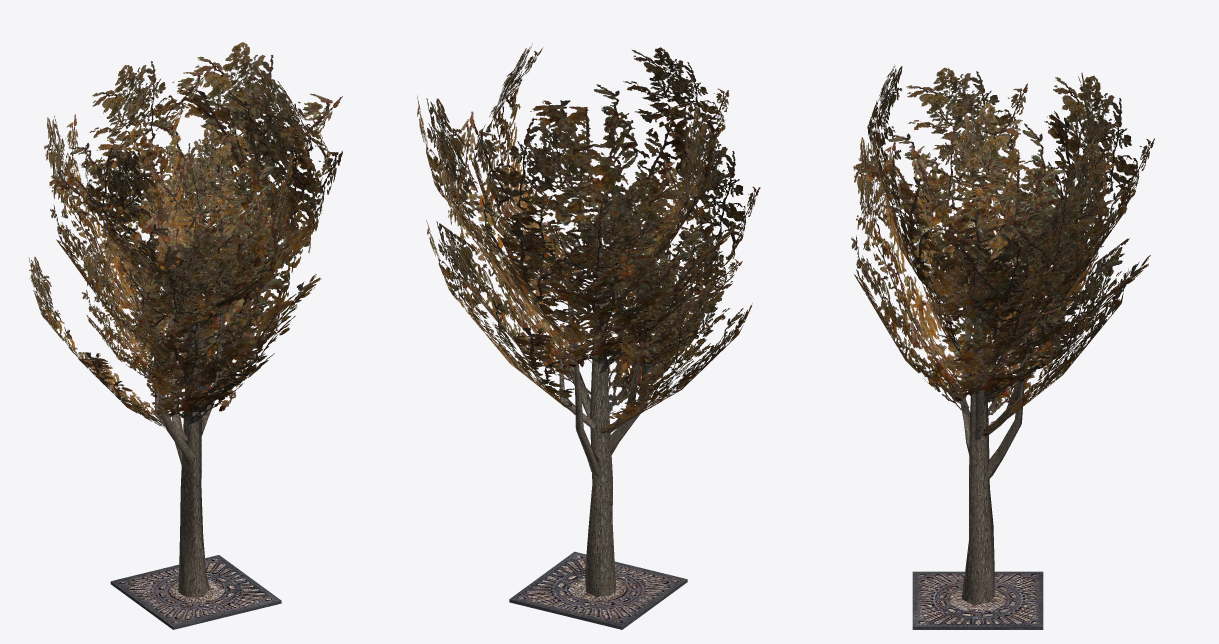
The model's file is tree_decid_med_base_leaf.fbx.
The picture shows the model from 3 angles, left to right: view 1: azimuth 30°, elevation 25°; view 2: azimuth 150°, elevation 25°; view 3: azimuth 270°, elevation 25°; orthographic projection. The views are drawn at different scales.
Visible parts, largest first — view 1: mesh_0, mesh_2, mesh_1; view 2: mesh_0, mesh_1, mesh_2; view 3: mesh_0, mesh_1, mesh_2.
Boxes of the visible parts, left/top/right/bottom form: mesh_0: left=29, top=42, right=342, bottom=427; mesh_2: left=110, top=555, right=281, bottom=629; mesh_1: left=154, top=250, right=223, bottom=597; mesh_0: left=417, top=43, right=760, bottom=432; mesh_1: left=558, top=235, right=647, bottom=596; mesh_2: left=509, top=551, right=687, bottom=629; mesh_0: left=851, top=64, right=1154, bottom=435; mesh_1: left=960, top=244, right=1037, bottom=605; mesh_2: left=912, top=571, right=1043, bottom=629.
Bounding box in the file's own units: 629 × 915 × 599.
3 materials, 3 textured.
